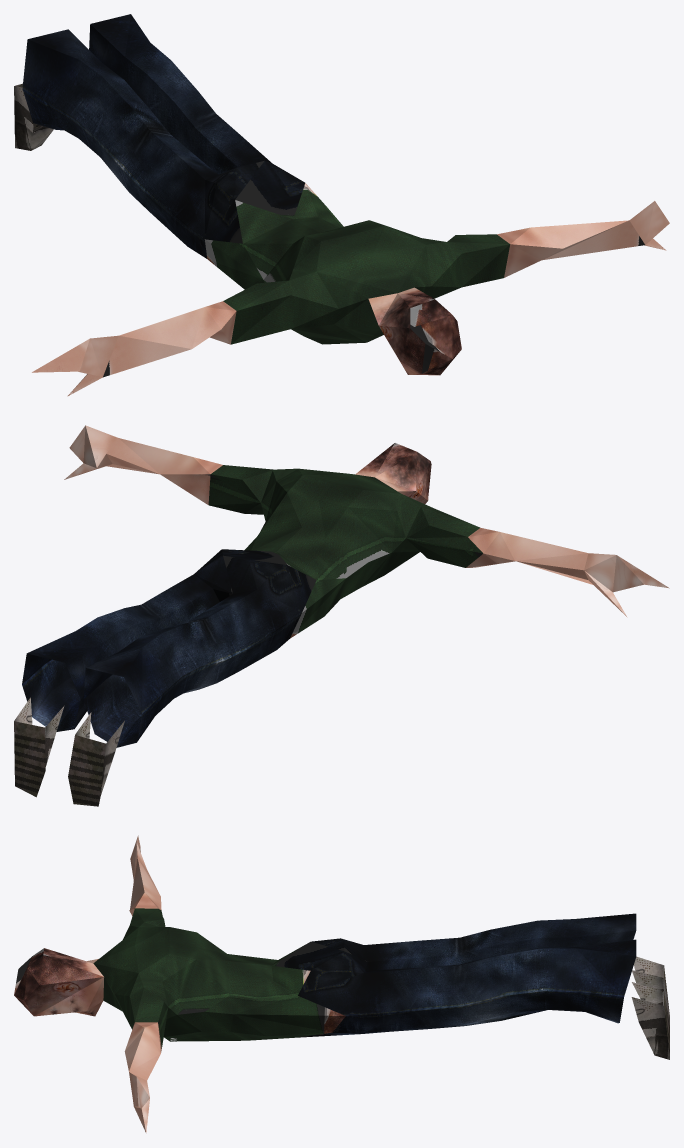
Rendered from tomdrinman4_3kgreenbeardlow_wtf.obj.
3 views of the same model, one above another, from view 1: azimuth 30°, elevation 25°; view 2: azimuth 150°, elevation 25°; view 3: azimuth 270°, elevation 25° (orthographic). The views are drawn at different scales.
Visible parts, largest first — view 1: group1; view 2: group1; view 3: group1.
Part boxes in pixels (box(x1,y1,x2,y2)): group1: box(14, 14, 669, 396); group1: box(14, 425, 669, 806); group1: box(14, 835, 669, 1132).
Bounding box in the file's own units: 621 × 123 × 647.
